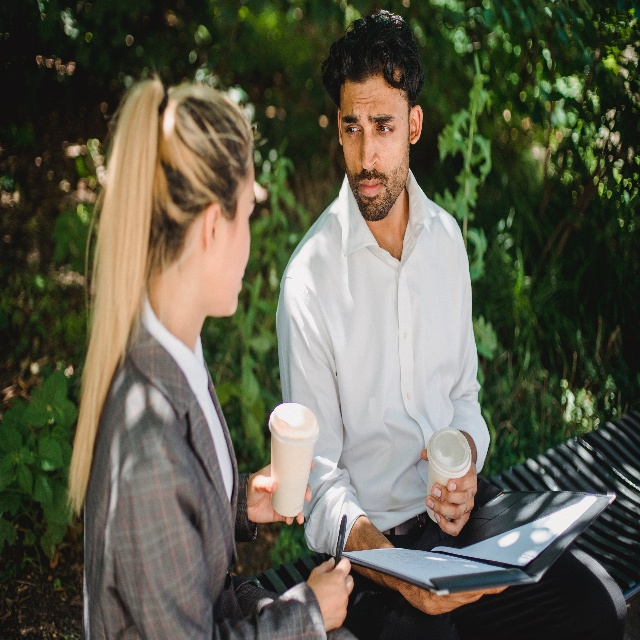Sin_guantes: (245, 459, 316, 529), (421, 446, 478, 531), (308, 560, 354, 631)
